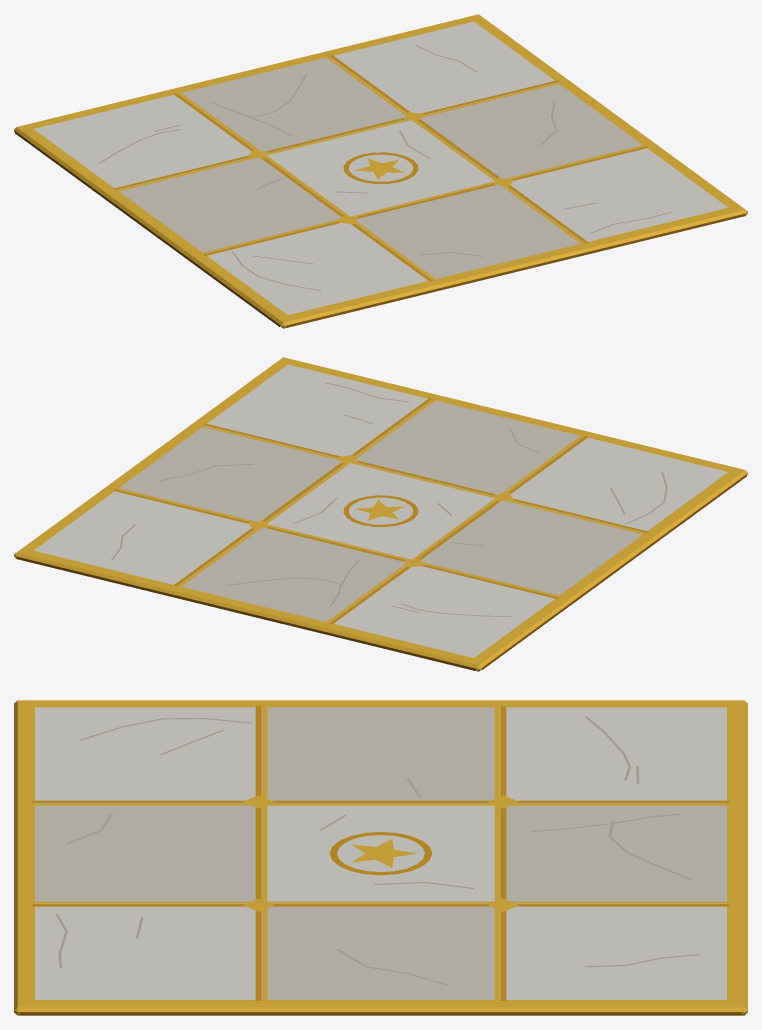
Rendered from toy-plotfloor.glb.
The picture shows the model from 3 angles, top to bottom: view 1: azimuth 30°, elevation 25°; view 2: azimuth 150°, elevation 25°; view 3: azimuth 270°, elevation 25°; orthographic projection. The views are drawn at different scales.
Visible parts, largest first — view 1: toy-plotfloor; view 2: toy-plotfloor; view 3: toy-plotfloor.
Boxes of the visible parts, x1,y1,x2,y2 form: toy-plotfloor: (14,14,747,328); toy-plotfloor: (14,357,747,671); toy-plotfloor: (14,700,747,1015).
Bounding box in the file's own units: 6 × 0.0796 × 6.
